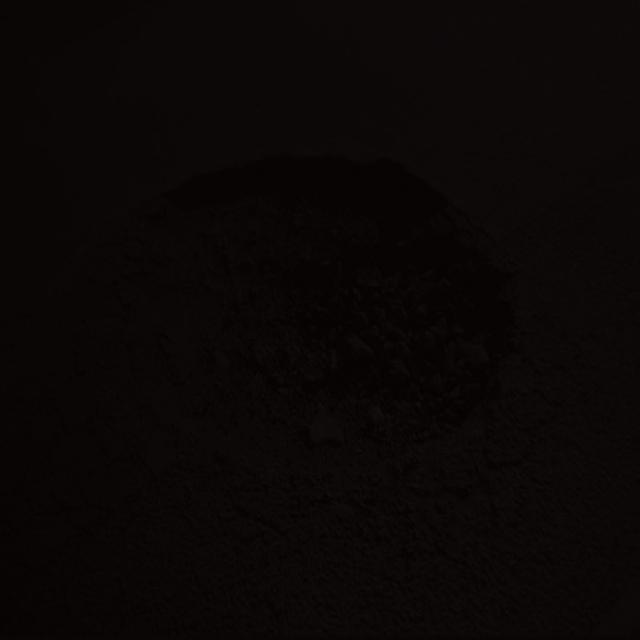Pothole: (53, 138, 522, 517)
